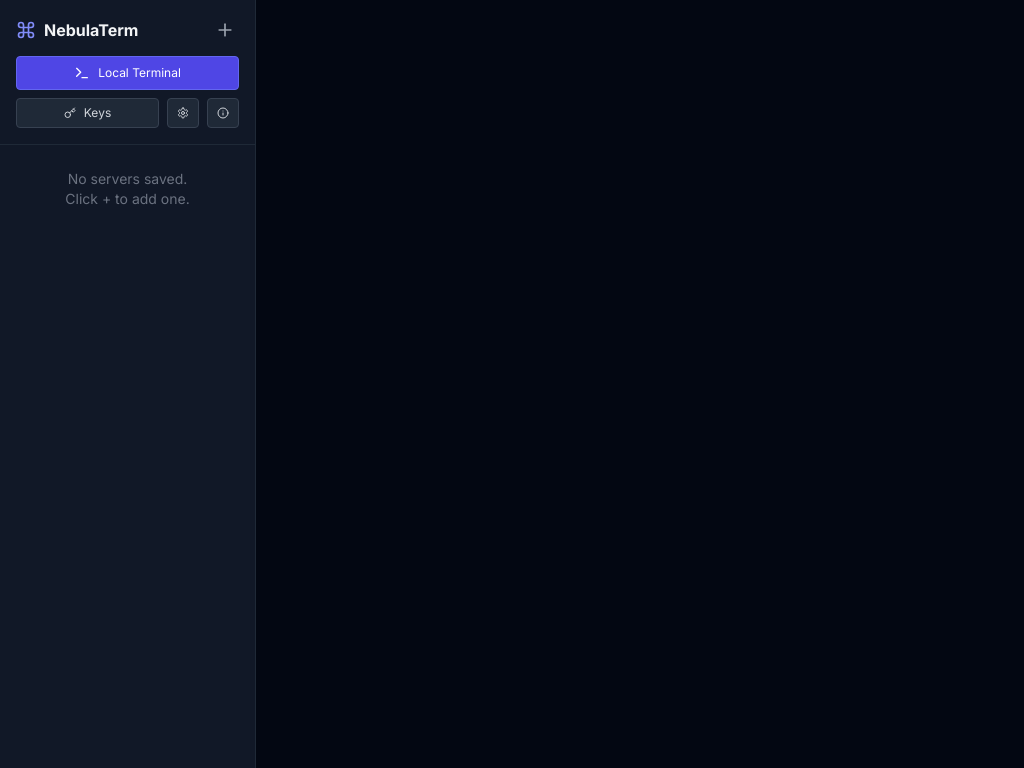
Test: ServerList › hides form when Cancel is clicked
The width and height of the screenshot is (1024, 768).
What coordinates should you click on to do the following:
click the button titled "Add Server"
I would click on:
 (225, 30)
Its box is [211,16,239,44].
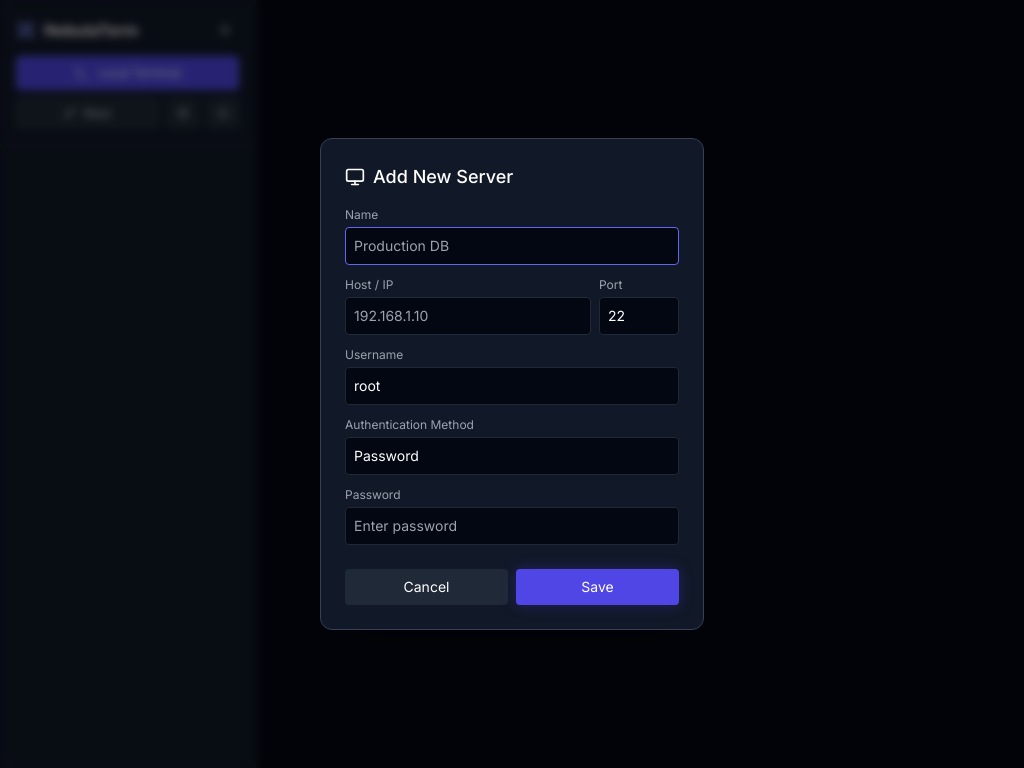
Now the heading "Add New Server" is shown, box [345,166,513,187]
What coordinates should you click on to do the following:
click the button "Cancel"
I would click on:
 (426, 587)
Its box is [345,569,508,605].
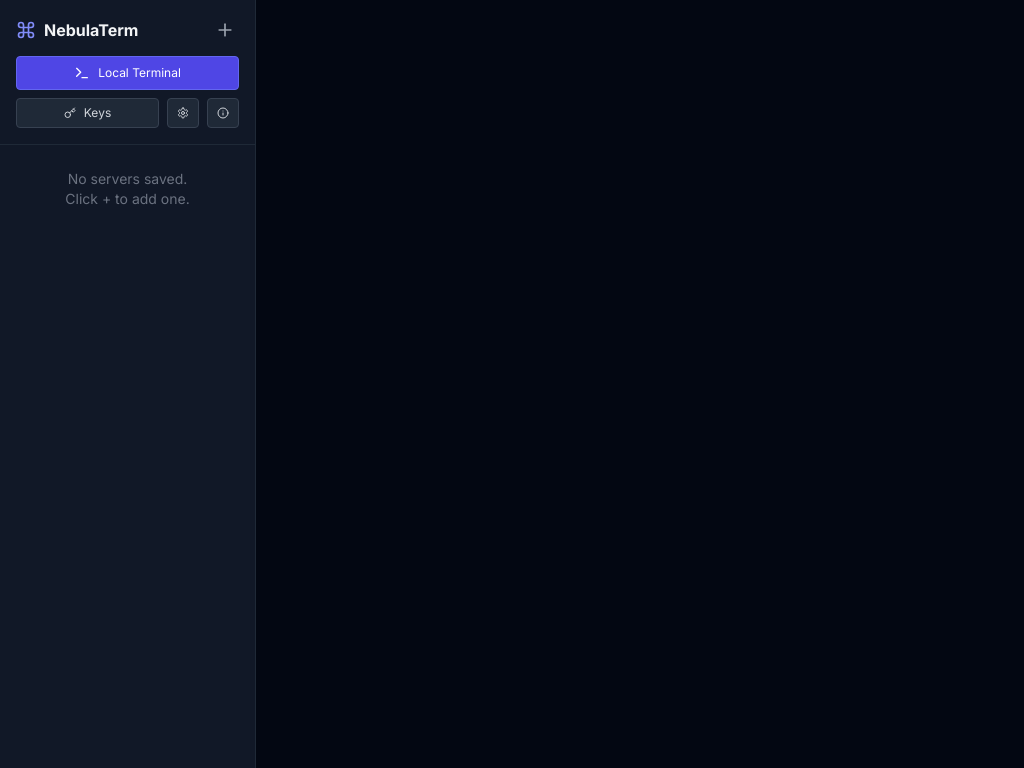
Now the heading "Add New Server" is gone
